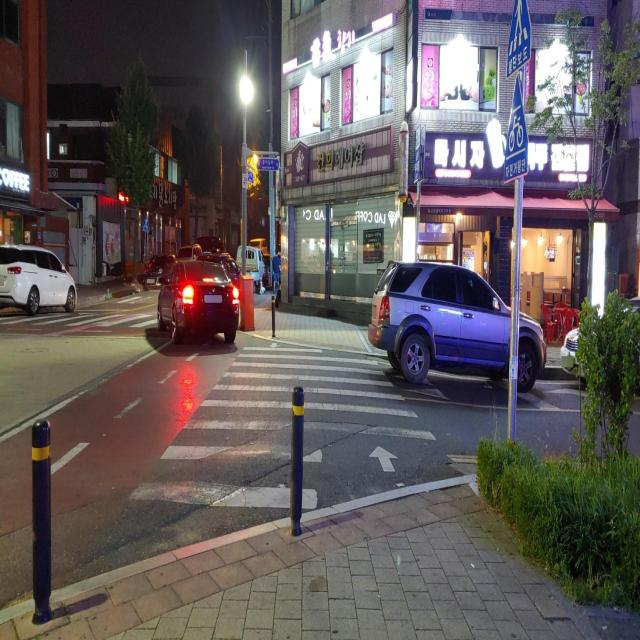횡단보도: (127, 337, 438, 511), (0, 308, 171, 329)
